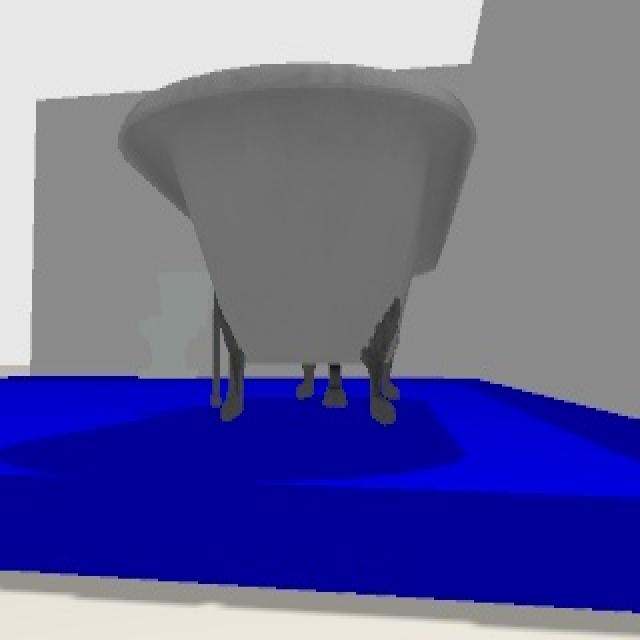bathtub: (116, 67, 480, 427)
